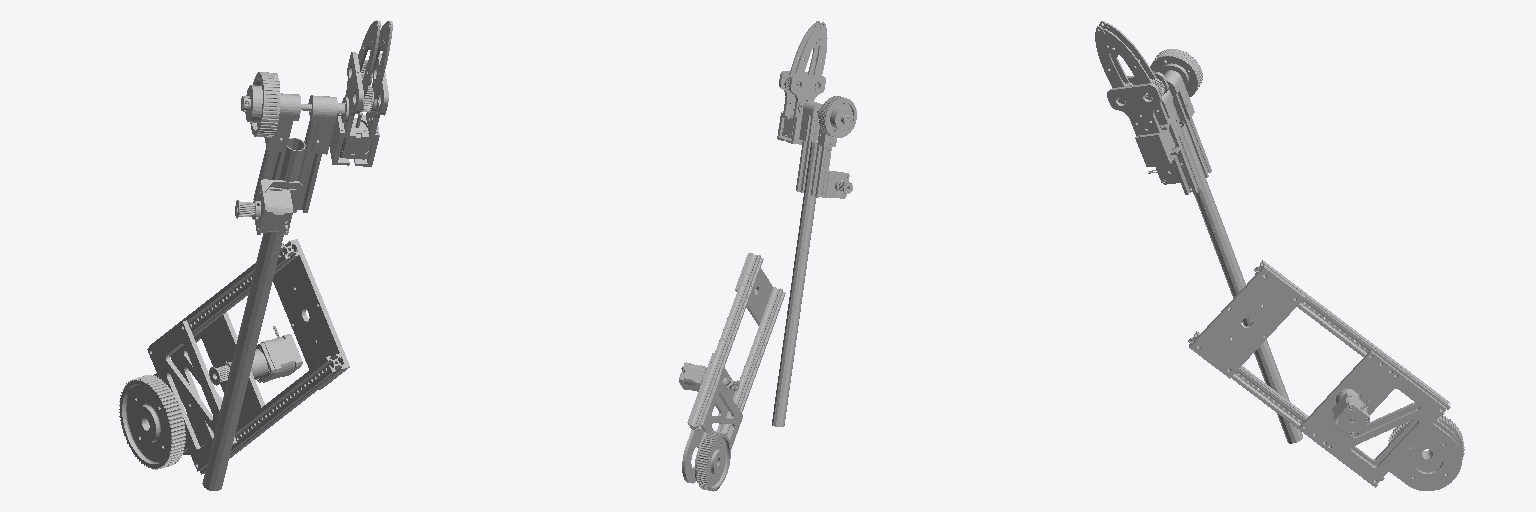
The robot description file, URDF, robot "arm_urdf":
<?xml version="1.0" encoding="utf-8"?>
<!-- This URDF was automatically created by SolidWorks to URDF Exporter! Originally created by [author] ([email redacted]) 
     Commit Version: 1.6.0-4-g7f85cfe  Build Version: 1.6.7995.38578
     For more information, please see http://wiki.ros.org/sw_urdf_exporter -->
<robot
  name="arm_urdf">
  <link
    name="base_link">
    <inertial>
      <origin
        xyz="-0.0036798240314266 0.0334930245621403 -0.067619806748485"
        rpy="0 0 0" />
      <mass
        value="0.822890475760512" />
      <inertia
        ixx="0.00265323982881183"
        ixy="7.59478635142583E-07"
        ixz="7.2543380674244E-05"
        iyy="0.00293479013798865"
        iyz="-1.98795921819183E-05"
        izz="0.000494767896699545" />
    </inertial>
    <visual>
      <origin
        xyz="0 0 0"
        rpy="0 0 0" />
      <geometry>
        <mesh
          filename="package://arm_urdf/meshes/base_link.STL" />
      </geometry>
      <material
        name="">
        <color
          rgba="0.752941176470588 0.752941176470588 0.752941176470588 1" />
      </material>
    </visual>
    <collision>
      <origin
        xyz="0 0 0"
        rpy="0 0 0" />
      <geometry>
        <mesh
          filename="package://arm_urdf/meshes/base_link.STL" />
      </geometry>
    </collision>
  </link>
  <link
    name="link_1">
    <inertial>
      <origin
        xyz="-0.000276081625093938 0.0152801621673459 0.088256138789042"
        rpy="0 0 0" />
      <mass
        value="1.3578353114689" />
      <inertia
        ixx="0.00333814029262389"
        ixy="-2.04850450079554E-07"
        ixz="-7.28667321534616E-06"
        iyy="0.00122042869124216"
        iyz="-0.000124129203998039"
        izz="0.00317720477234305" />
    </inertial>
    <visual>
      <origin
        xyz="0 0 0"
        rpy="0 0 0" />
      <geometry>
        <mesh
          filename="package://arm_urdf/meshes/link_1.STL" />
      </geometry>
      <material
        name="">
        <color
          rgba="0.752941176470588 0.752941176470588 0.752941176470588 1" />
      </material>
    </visual>
    <collision>
      <origin
        xyz="0 0 0"
        rpy="0 0 0" />
      <geometry>
        <mesh
          filename="package://arm_urdf/meshes/link_1.STL" />
      </geometry>
    </collision>
  </link>
  <joint
    name="joint_1"
    type="continuous">
    <origin
      xyz="-0.0055997 0.011176 0.07441"
      rpy="0 0 0.081977" />
    <parent
      link="base_link" />
    <child
      link="link_1" />
    <axis
      xyz="0 0 1" />
  </joint>
  <link
    name="bicep">
    <inertial>
      <origin
        xyz="0.0253997592920813 0.145469939084208 0.0113059977652922"
        rpy="0 0 0" />
      <mass
        value="0.938810977916726" />
      <inertia
        ixx="0.00521724116914255"
        ixy="4.93886221515835E-06"
        ixz="0.00030112344979231"
        iyy="0.000948664160304474"
        iyz="-1.10661506891825E-05"
        izz="0.00467508585971214" />
    </inertial>
    <visual>
      <origin
        xyz="0 0 0"
        rpy="0 0 0" />
      <geometry>
        <mesh
          filename="package://arm_urdf/meshes/bicep.STL" />
      </geometry>
      <material
        name="">
        <color
          rgba="0.752941176470588 0.752941176470588 0.752941176470588 1" />
      </material>
    </visual>
    <collision>
      <origin
        xyz="0 0 0"
        rpy="0 0 0" />
      <geometry>
        <mesh
          filename="package://arm_urdf/meshes/bicep.STL" />
      </geometry>
    </collision>
  </link>
  <joint
    name="joint_2"
    type="continuous">
    <origin
      xyz="0 0.075 0.11064"
      rpy="2.3785 -0.3113 0.28497" />
    <parent
      link="link_1" />
    <child
      link="bicep" />
    <axis
      xyz="0.91355 0 0.40674" />
  </joint>
  <link
    name="forearm">
    <inertial>
      <origin
        xyz="0.0260237924033239 -0.0200101568371641 0.0222583522473769"
        rpy="0 0 0" />
      <mass
        value="1.14228048353566" />
      <inertia
        ixx="0.00399684434866099"
        ixy="-0.000131808044696208"
        ixz="4.40042111421313E-08"
        iyy="0.00374650344608502"
        iyz="-6.63579070807178E-09"
        izz="0.000741372239539919" />
    </inertial>
    <visual>
      <origin
        xyz="0 0 0"
        rpy="0 0 0" />
      <geometry>
        <mesh
          filename="package://arm_urdf/meshes/forearm.STL" />
      </geometry>
      <material
        name="">
        <color
          rgba="0.752941176470588 0.752941176470588 0.752941176470588 1" />
      </material>
    </visual>
    <collision>
      <origin
        xyz="0 0 0"
        rpy="0 0 0" />
      <geometry>
        <mesh
          filename="package://arm_urdf/meshes/forearm.STL" />
      </geometry>
    </collision>
  </link>
  <joint
    name="joint_3"
    type="continuous">
    <origin
      xyz="0 0.36 0"
      rpy="-0.88914 0.75522 -2.866" />
    <parent
      link="bicep" />
    <child
      link="forearm" />
    <axis
      xyz="0.91886 -0.39458 0" />
  </joint>
  <link
    name="wrist">
    <inertial>
      <origin
        xyz="-0.0717440741453156 0.00183296197726708 -0.317341322429344"
        rpy="0 0 0" />
      <mass
        value="41927.007299493" />
      <inertia
        ixx="8.83747563657208"
        ixy="-0.000124540550785035"
        ixz="-0.00121061700020869"
        iyy="8.83278204569789"
        iyz="-0.0229515226735155"
        izz="7.89645396325965" />
    </inertial>
    <visual>
      <origin
        xyz="0 0 0"
        rpy="0 0 0" />
      <geometry>
        <mesh
          filename="package://arm_urdf/meshes/wrist.STL" />
      </geometry>
      <material
        name="">
        <color
          rgba="0.752941176470588 0.752941176470588 0.752941176470588 1" />
      </material>
    </visual>
    <collision>
      <origin
        xyz="0 0 0"
        rpy="0 0 0" />
      <geometry>
        <mesh
          filename="package://arm_urdf/meshes/wrist.STL" />
      </geometry>
    </collision>
  </link>
  <joint
    name="joint_4"
    type="continuous">
    <origin
      xyz="0.045943 -0.019729 0"
      rpy="0 0 0.057924" />
    <parent
      link="forearm" />
    <child
      link="wrist" />
    <axis
      xyz="0 0 1" />
  </joint>
  <link
    name="left_claw">
    <inertial>
      <origin
        xyz="0.0038360337692791 0.0426668418390397 0.0236079003771448"
        rpy="0 0 0" />
      <mass
        value="0.0552769421141955" />
      <inertia
        ixx="6.98533291541758E-05"
        ixy="-8.99068548512217E-06"
        ixz="2.88652997947518E-09"
        iyy="4.18428081733545E-06"
        iyz="3.19458959966543E-08"
        izz="7.38079334032916E-05" />
    </inertial>
    <visual>
      <origin
        xyz="0 0 0"
        rpy="0 0 0" />
      <geometry>
        <mesh
          filename="package://arm_urdf/meshes/left_claw.STL" />
      </geometry>
      <material
        name="">
        <color
          rgba="0.752941176470588 0.752941176470588 0.752941176470588 1" />
      </material>
    </visual>
    <collision>
      <origin
        xyz="0 0 0"
        rpy="0 0 0" />
      <geometry>
        <mesh
          filename="package://arm_urdf/meshes/left_claw.STL" />
      </geometry>
    </collision>
  </link>
  <joint
    name="left_claw_joint"
    type="continuous">
    <origin
      xyz="-0.044746 -0.023196 -0.40274"
      rpy="-1.5708 0.14167 1.5708" />
    <parent
      link="wrist" />
    <child
      link="left_claw" />
    <axis
      xyz="0 0 1" />
  </joint>
  <link
    name="right_claw">
    <inertial>
      <origin
        xyz="0.00383606672828818 0.0426668402066062 -0.0252123039358644"
        rpy="0 0 0" />
      <mass
        value="0.0552769060198365" />
      <inertia
        ixx="6.98535705290192E-05"
        ixy="-8.99076507967866E-06"
        ixz="2.88280354022659E-09"
        iyy="4.18375084335393E-06"
        iyz="3.19477309144085E-08"
        izz="7.38076449036395E-05" />
    </inertial>
    <visual>
      <origin
        xyz="0 0 0"
        rpy="0 0 0" />
      <geometry>
        <mesh
          filename="package://arm_urdf/meshes/right_claw.STL" />
      </geometry>
      <material
        name="">
        <color
          rgba="0.752941176470588 0.752941176470588 0.752941176470588 1" />
      </material>
    </visual>
    <collision>
      <origin
        xyz="0 0 0"
        rpy="0 0 0" />
      <geometry>
        <mesh
          filename="package://arm_urdf/meshes/right_claw.STL" />
      </geometry>
    </collision>
  </link>
  <joint
    name="right_claw_joint"
    type="continuous">
    <origin
      xyz="-0.043119 0.023194 -0.40373"
      rpy="-1.5708 -0.18063 -1.5708" />
    <parent
      link="wrist" />
    <child
      link="right_claw" />
    <axis
      xyz="0 0 1" />
  </joint>
</robot>

--- What the picture shows (computed from the rendered views, not written in the file) ---
The picture shows the robot from 3 angles, left to right: view 1: azimuth 30°, elevation 25°; view 2: azimuth 150°, elevation 25°; view 3: azimuth 270°, elevation 25°; orthographic projection.
Robot: arm_urdf — 7 links, 6 joints (6 continuous); root link base_link; default pose: all joints at 0.
Links seen in each view (by area): view 1: bicep, wrist, left_claw, right_claw; view 2: bicep, wrist, right_claw, left_claw; view 3: bicep, wrist, right_claw, left_claw.
Boxes of the visible links, x1,y1,x2,y2 form: bicep: (119,239,349,474); wrist: (202,52,388,490); left_claw: (361,21,392,112); right_claw: (358,20,389,85); bicep: (679,253,785,491); wrist: (772,71,856,426); right_claw: (784,23,820,91); left_claw: (808,21,827,89); bicep: (1188,260,1464,490); wrist: (1107,49,1302,443); right_claw: (1101,23,1164,99); left_claw: (1095,21,1132,103).
Bounding box of the posed robot: 0.2235 × 0.55 × 0.7771 m (x, y, z).
4 mesh visuals loaded from 7 distinct referenced files (4 binary STL); not drawn: 3 (reference not matched to a file when rendering).